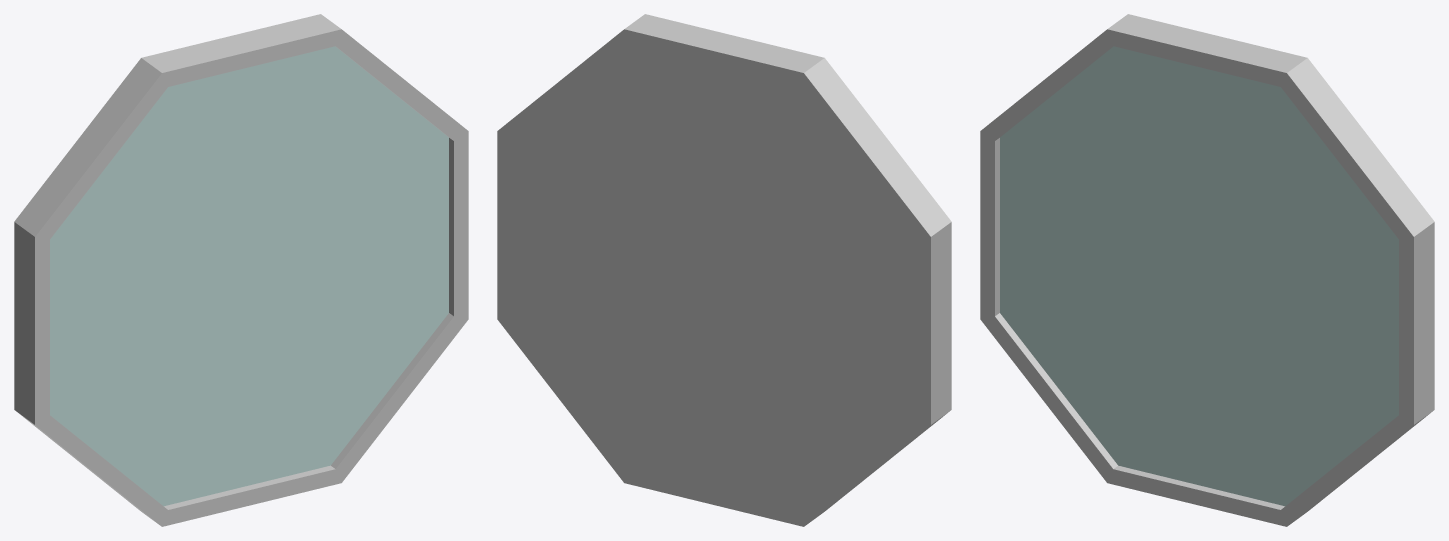
The model's file is Mirror_03_C1.fbx.
3 views of the same model, side by side, from view 1: azimuth 30°, elevation 25°; view 2: azimuth 150°, elevation 25°; view 3: azimuth 330°, elevation 25° (orthographic).
Parts seen in each view (by area): view 1: Mirror_03_C1; view 2: Mirror_03_C1; view 3: Mirror_03_C1.
Part boxes in pixels (x1,y1,x2,y2): Mirror_03_C1: (14, 14, 468, 526); Mirror_03_C1: (497, 14, 951, 526); Mirror_03_C1: (980, 14, 1434, 526).
Bounding box in the file's own units: 60 × 60 × 5.
